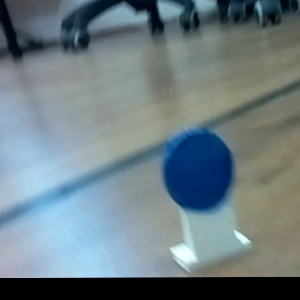circle: (141, 116, 264, 276)
